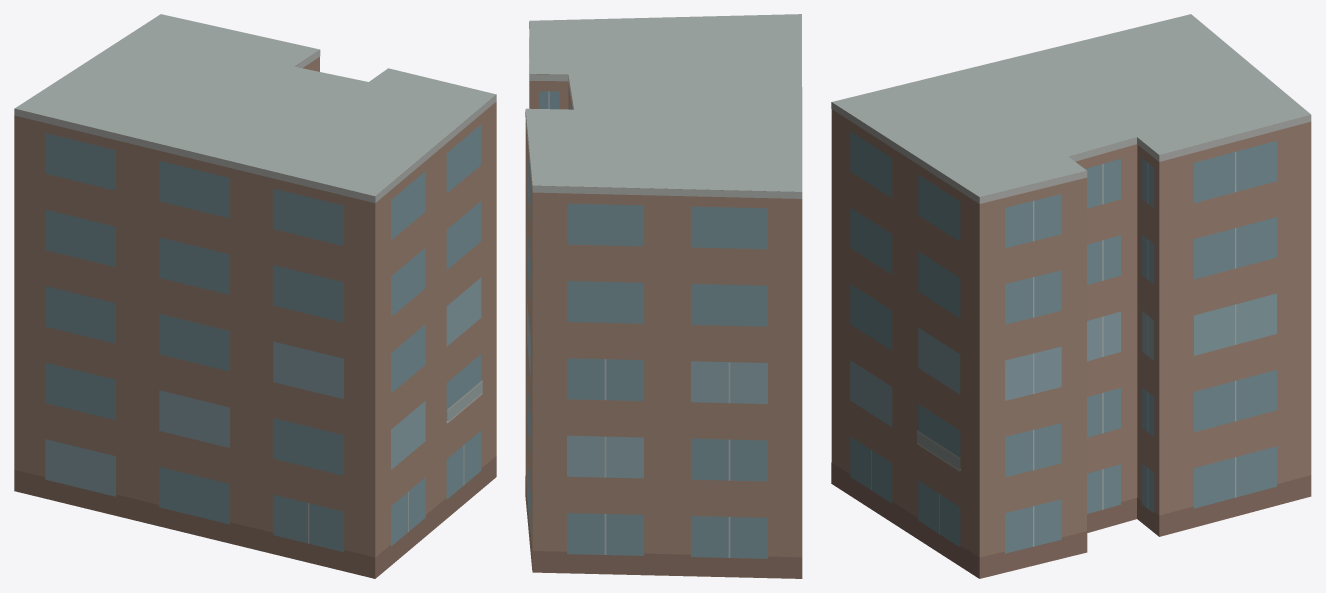
The model's file is survey-upis-32538480.glb.
The picture shows the model from 3 angles, left to right: view 1: azimuth 30°, elevation 25°; view 2: azimuth 150°, elevation 25°; view 3: azimuth 270°, elevation 25°; orthographic projection.
Visible parts, largest first — view 1: survey-upis-32538480.tmp; view 2: survey-upis-32538480.tmp; view 3: survey-upis-32538480.tmp.
Boxes of the visible parts, x1,y1,x2,y2 form: survey-upis-32538480.tmp: [14, 14, 496, 578]; survey-upis-32538480.tmp: [525, 14, 802, 578]; survey-upis-32538480.tmp: [831, 14, 1311, 578].
Size of the model in its own units: 13.9 by 13.5 by 15.39.
